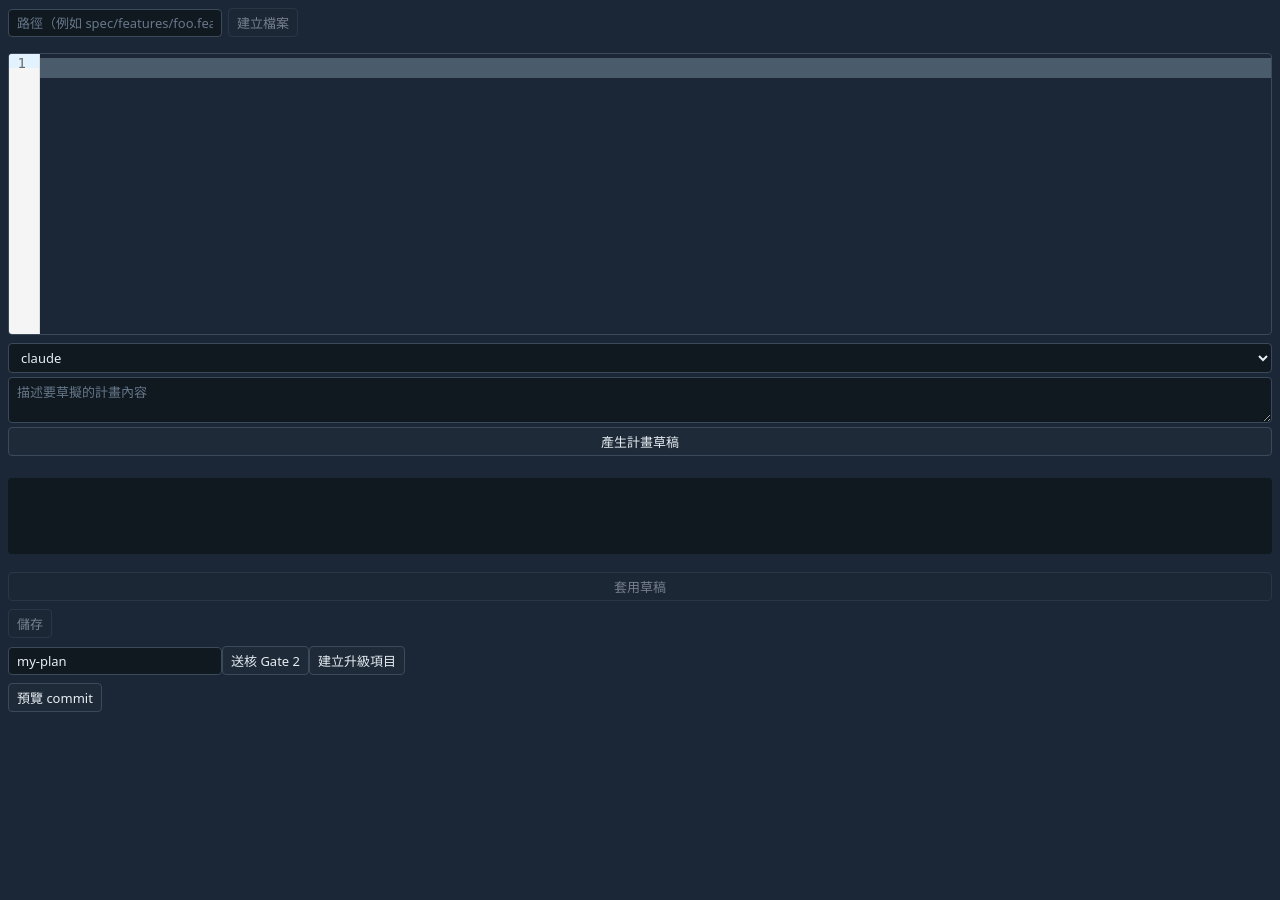
PlanWorkspace › 送核 Gate 2 失敗（含 GateList fail closed）錯誤原樣顯示
The width and height of the screenshot is (1280, 900).
Expected: the field with test id "plan-id" holds "my-plan", [8, 647, 222, 675]
Click the button with test id "submit-gate2" at (266, 660), box [222, 646, 309, 675]
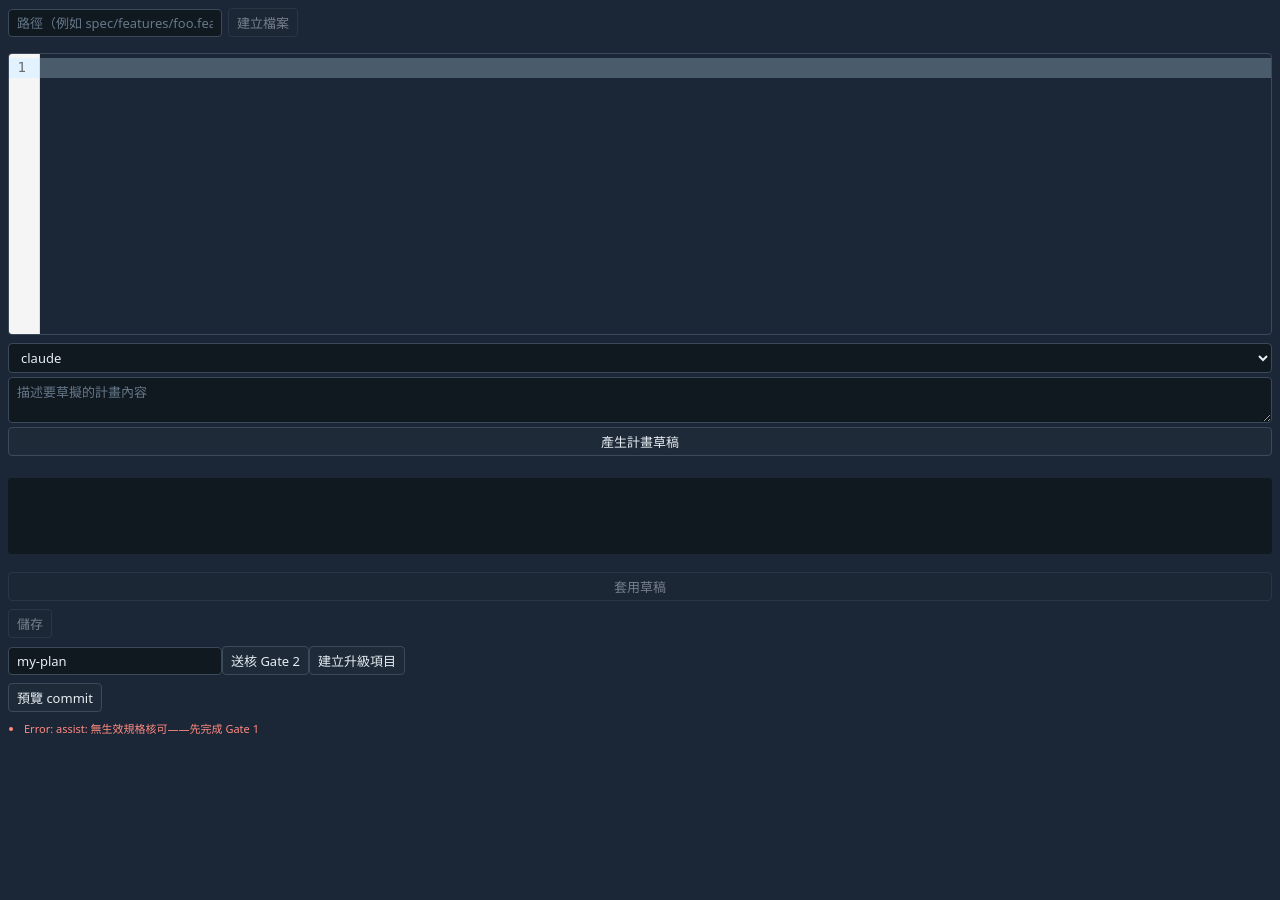
Expected: the list with test id "plan-errors" shows "assist: 無生效規格核可——先完成 Gate 1", [24, 721, 259, 736]
